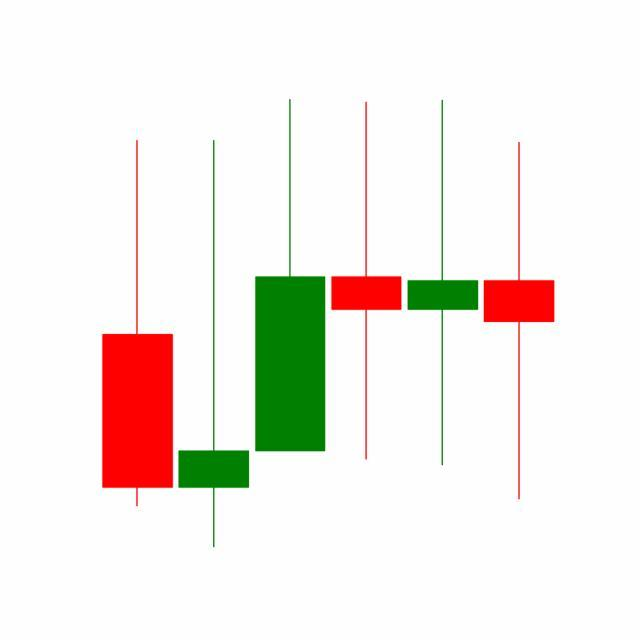Spinning Top: (404, 96, 482, 470)
